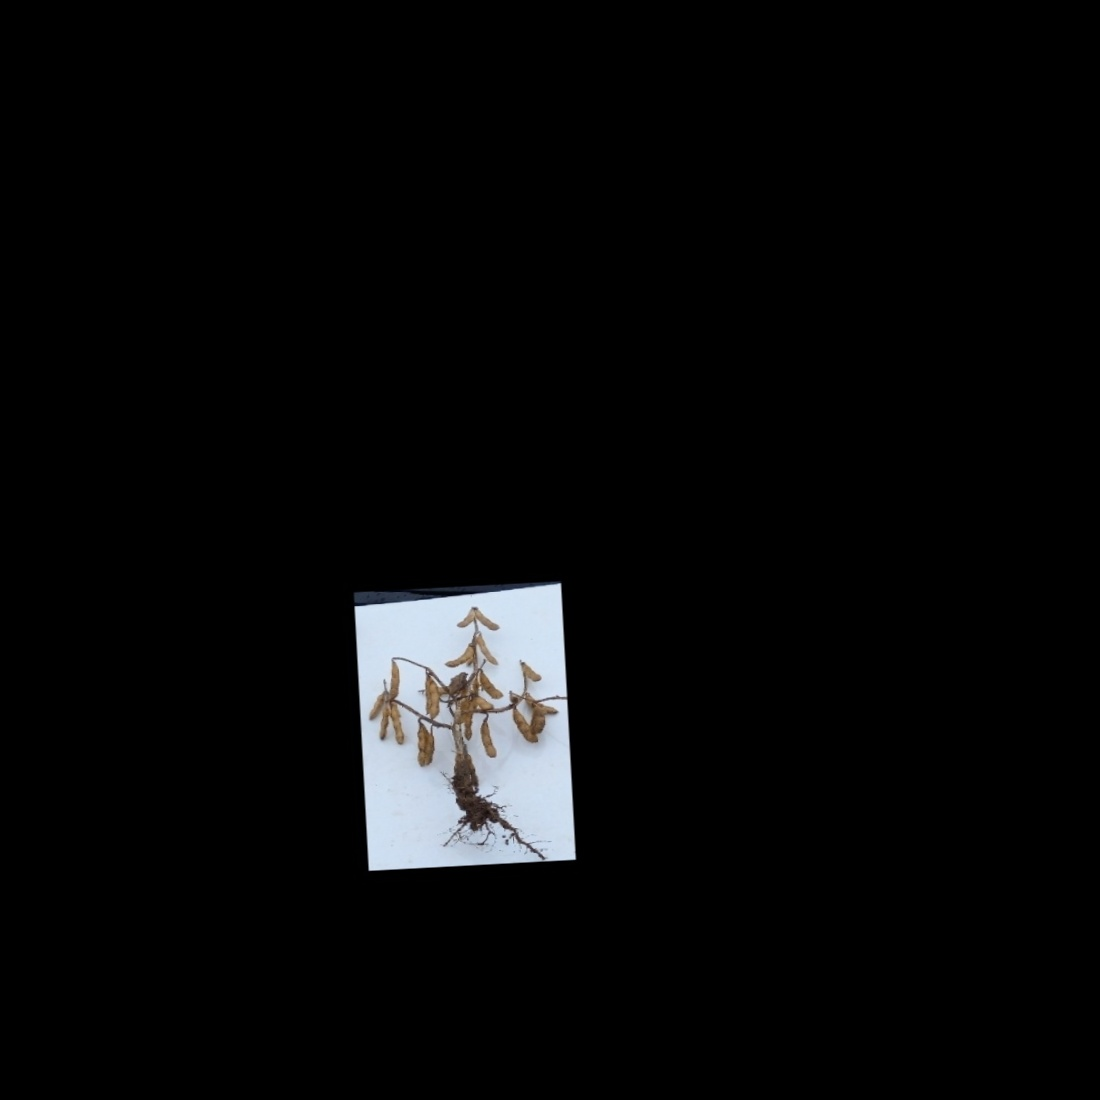pod: (508, 709, 539, 747), (442, 636, 477, 668), (406, 725, 429, 770), (477, 720, 499, 761), (477, 633, 502, 668), (479, 669, 505, 700), (388, 705, 406, 747), (475, 607, 501, 633), (521, 660, 545, 684), (388, 659, 400, 701), (428, 679, 440, 720), (420, 677, 432, 713), (473, 693, 496, 711), (463, 713, 474, 741)
soy: (358, 598, 565, 861)
